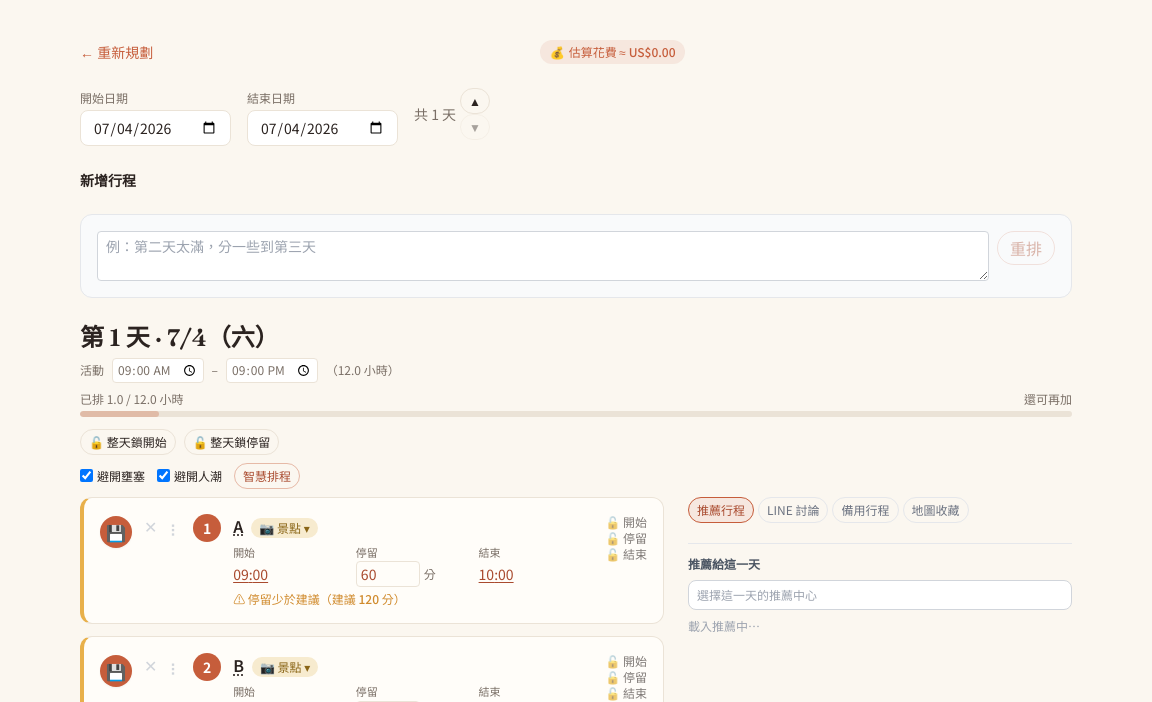
Test case: persistent mode: shows 已儲存 after an autosave succeeds
Click the button with aria-label "鎖定開始時間". click: {"x": 626, "y": 522}
box: [605,516,647,528]
Wait 2000 ms
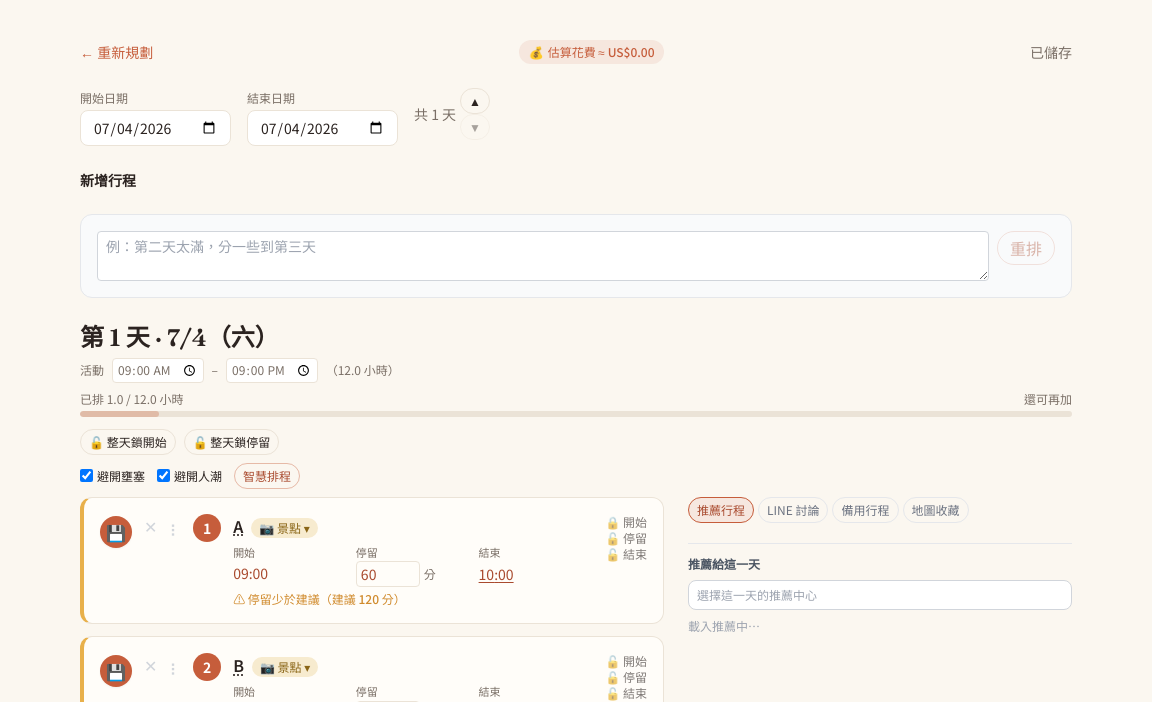
Check: the text "已儲存" is shown, box [1030,42,1072,62]
